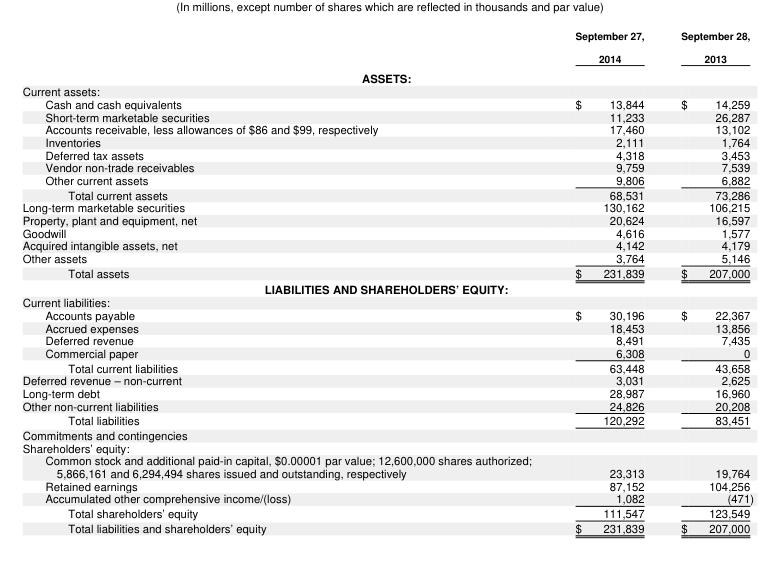table: (21, 28, 753, 535)
table column: (21, 28, 552, 535), (552, 28, 662, 535), (662, 28, 753, 535)
table column header: (21, 28, 753, 67)
table projected row header: (21, 67, 753, 84), (21, 280, 753, 295), (21, 84, 753, 97), (21, 295, 753, 308), (21, 427, 753, 440), (21, 440, 753, 453)
table row: (21, 28, 753, 67), (21, 453, 753, 479), (21, 67, 753, 84), (21, 265, 753, 280), (21, 280, 753, 295), (21, 412, 753, 427), (21, 505, 753, 520), (21, 520, 753, 535), (21, 186, 753, 200), (21, 251, 753, 265), (21, 359, 753, 373), (21, 398, 753, 412), (21, 491, 753, 505), (21, 84, 753, 97), (21, 109, 753, 122), (21, 122, 753, 135), (21, 147, 753, 160), (21, 160, 753, 173), (21, 173, 753, 186), (21, 200, 753, 213), (21, 213, 753, 226), (21, 238, 753, 251), (21, 295, 753, 308), (21, 320, 753, 333), (21, 333, 753, 346), (21, 346, 753, 359), (21, 373, 753, 386), (21, 427, 753, 440), (21, 440, 753, 453), (21, 97, 753, 109), (21, 135, 753, 147), (21, 226, 753, 238), (21, 308, 753, 320), (21, 386, 753, 398), (21, 479, 753, 491)
